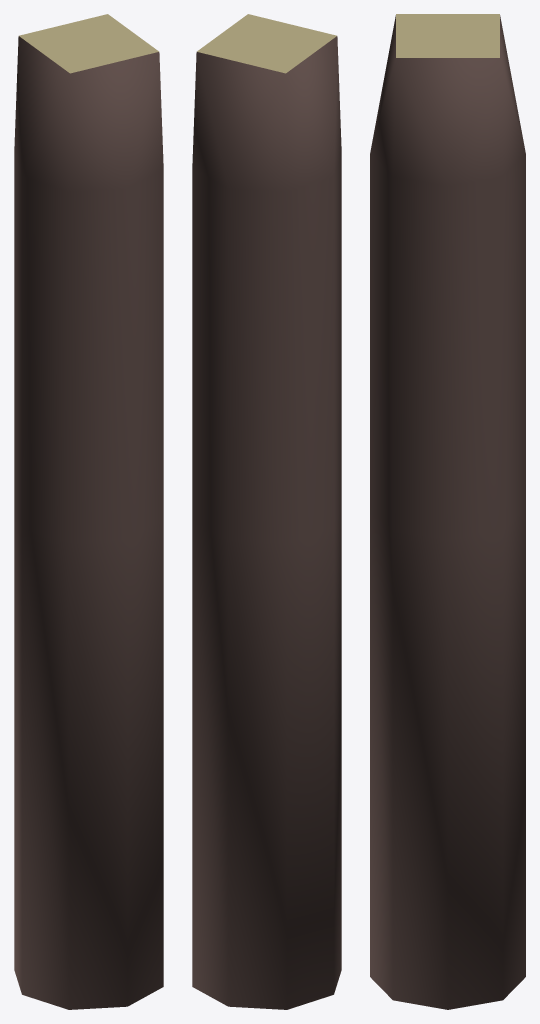
The model's file is BuildingLog2m2.fbx.
The picture shows the model from 3 angles, left to right: view 1: azimuth 30°, elevation 25°; view 2: azimuth 150°, elevation 25°; view 3: azimuth 270°, elevation 25°; orthographic projection.
Parts seen in each view (by area): view 1: building_log_2m_2; view 2: building_log_2m_2; view 3: building_log_2m_2.
Part boxes in pixels (bbox=[...]): building_log_2m_2: bbox=[14, 14, 163, 1009]; building_log_2m_2: bbox=[192, 14, 341, 1009]; building_log_2m_2: bbox=[370, 14, 525, 1009].
Bounding box in the file's own units: 30 × 200 × 30.
